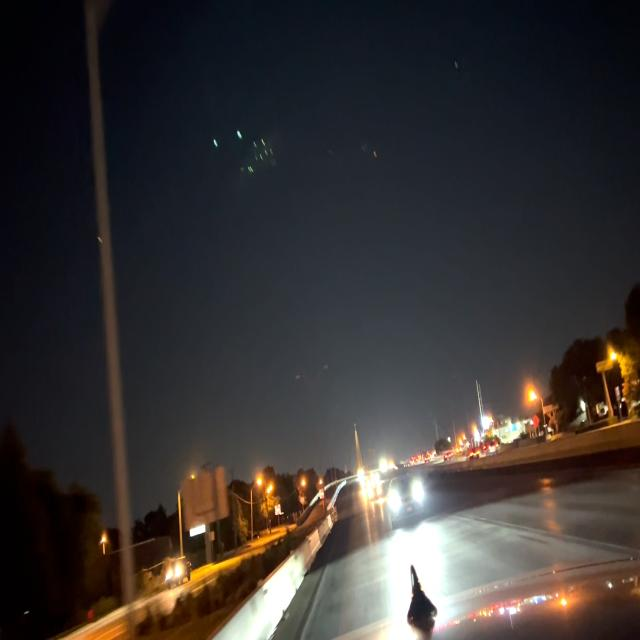back-of-sign: (179, 470, 229, 533)
